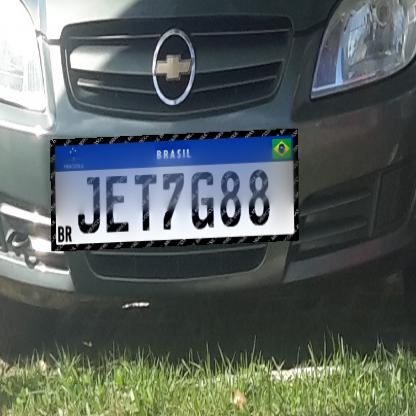PlacaM: (50, 129, 299, 251)
